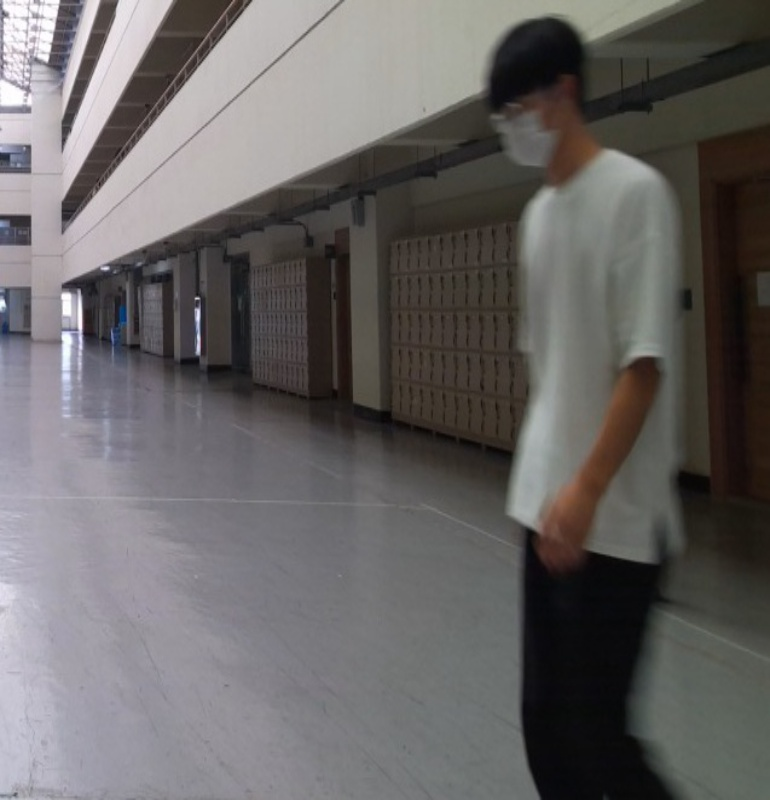person: (486, 13, 698, 799)
